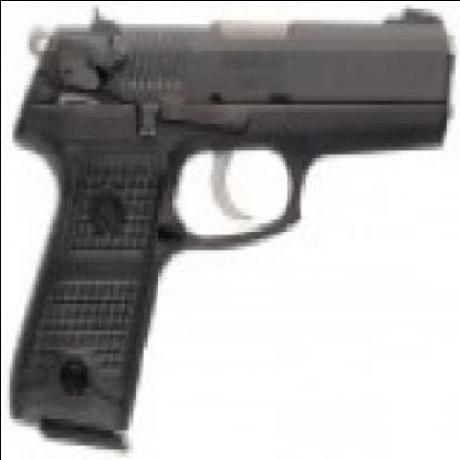weapon: (6, 6, 448, 438)
